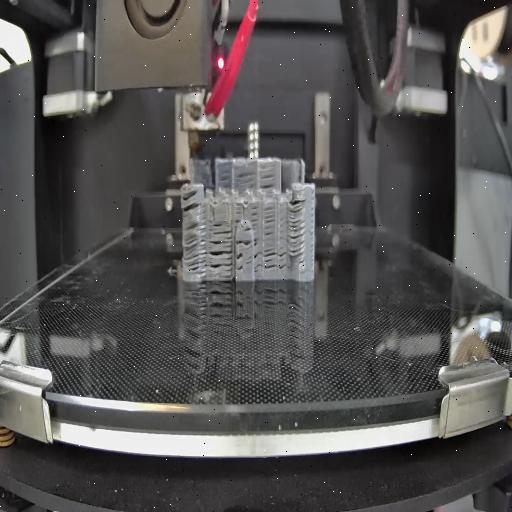cracks: (287, 199, 306, 268), (184, 224, 208, 276), (210, 239, 234, 276), (182, 191, 203, 213), (212, 220, 234, 238), (264, 206, 276, 238), (264, 246, 278, 272), (260, 171, 276, 190), (253, 236, 261, 272), (236, 172, 254, 186), (234, 252, 244, 274), (279, 246, 287, 272), (220, 173, 232, 190), (234, 205, 244, 223), (251, 206, 259, 224), (236, 238, 252, 246), (244, 225, 252, 232)
